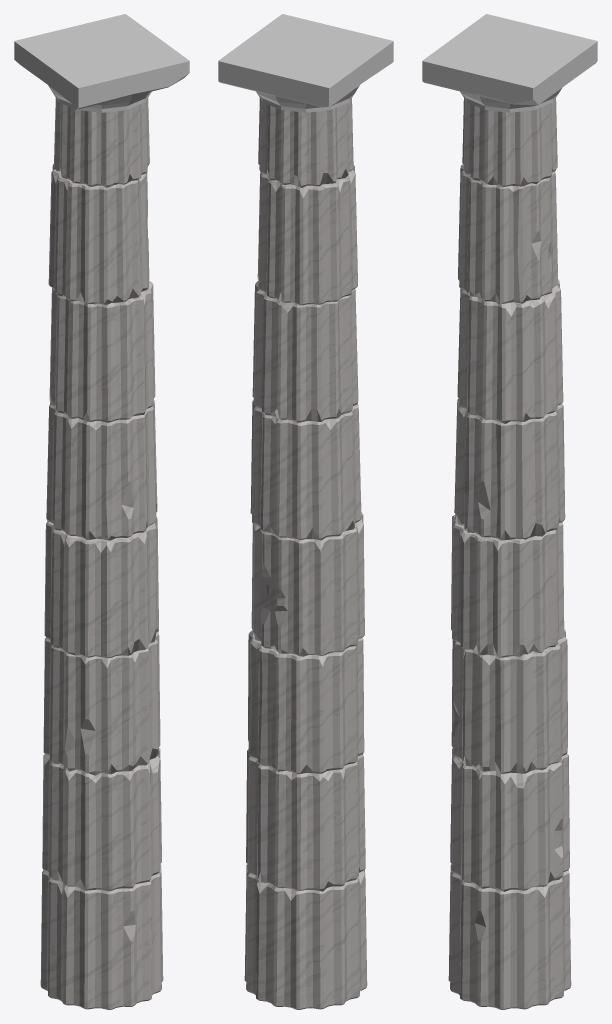
Rendered from SM_Bld_Pillar_Monument_01_Damaged_01.fbx.
3 views of the same model, side by side, from view 1: azimuth 30°, elevation 25°; view 2: azimuth 150°, elevation 25°; view 3: azimuth 330°, elevation 25° (orthographic).
Visible parts, largest first — view 1: SM_Bld_Pillar_Monument_01_Damaged_01; view 2: SM_Bld_Pillar_Monument_01_Damaged_01; view 3: SM_Bld_Pillar_Monument_01_Damaged_01.
Part boxes in pixels (<box>): SM_Bld_Pillar_Monument_01_Damaged_01: <box>14,14,189,1009</box>; SM_Bld_Pillar_Monument_01_Damaged_01: <box>218,14,393,1009</box>; SM_Bld_Pillar_Monument_01_Damaged_01: <box>422,14,597,1009</box>.
Size of the model in its own units: 150 by 1200 by 150.
